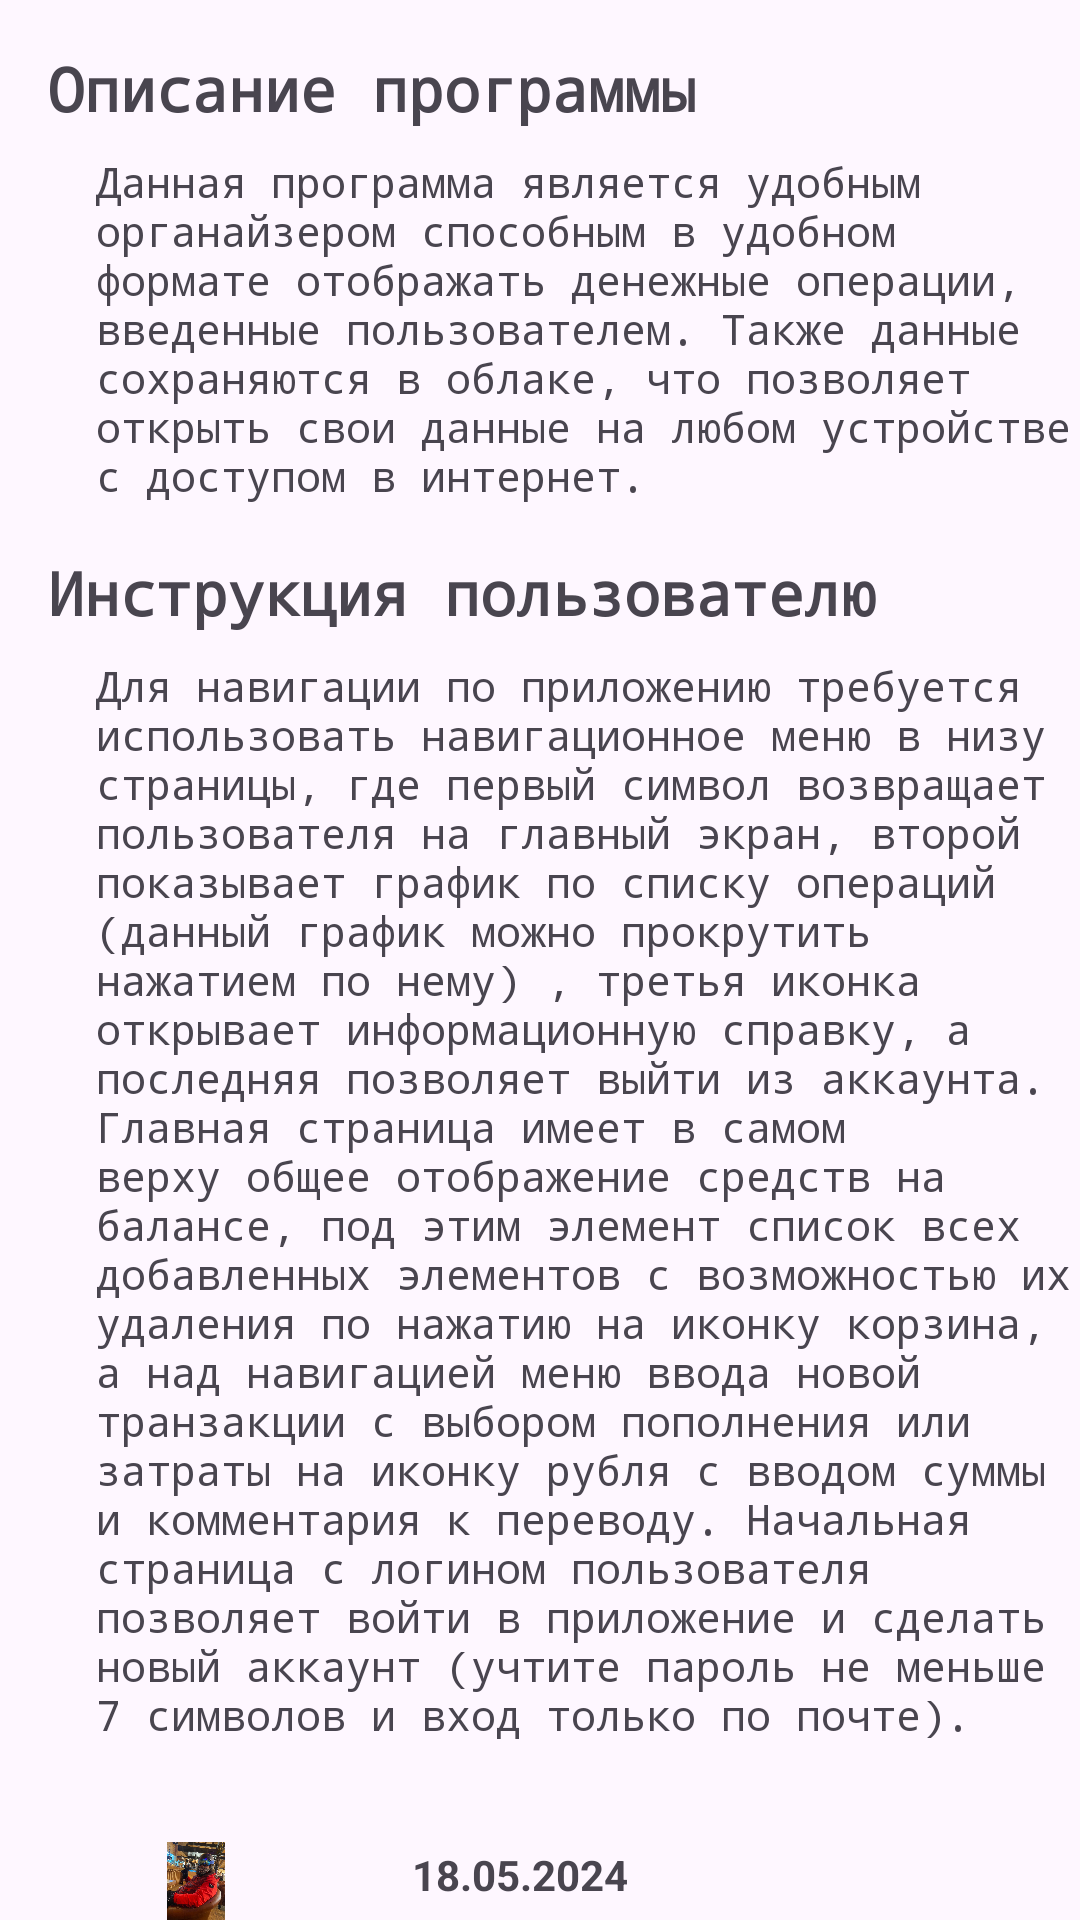

Screen size 1080*1920. Icon name, then its box in pixels as (x1, y1, x2, y2):
myphoto: (167, 1842, 225, 1920)
